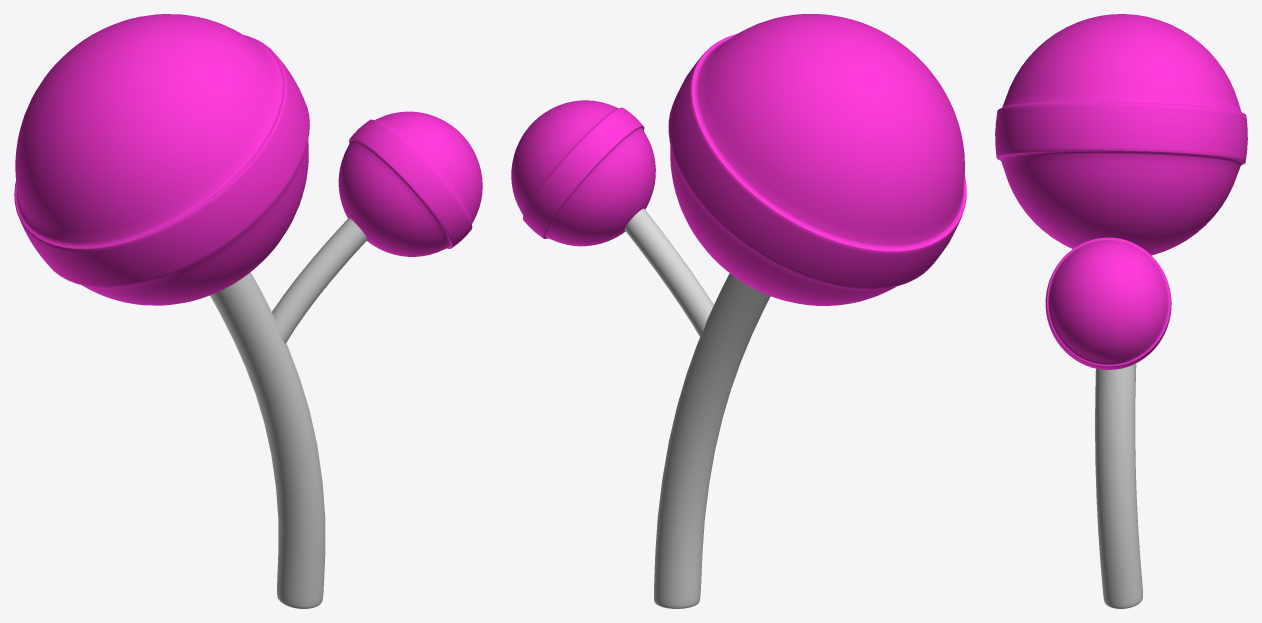
Rendered from Candytree.fbx.
3 renders of one model, left to right at view 1: azimuth 30°, elevation 25°; view 2: azimuth 150°, elevation 25°; view 3: azimuth 270°, elevation 25°, orthographic. The views are drawn at different scales.
Parts seen in each view (by area): view 1: Sphere001_low, Sphere001_low001, Loft004_low, Tree_candy; view 2: Sphere001_low, Sphere001_low001, Loft004_low, Tree_candy; view 3: Sphere001_low, Sphere001_low001, Loft004_low.
Boxes of the visible parts, left/top/right/bottom form: Sphere001_low: left=14, top=14, right=309, bottom=305; Sphere001_low001: left=338, top=111, right=482, bottom=256; Loft004_low: left=210, top=272, right=325, bottom=608; Tree_candy: left=272, top=218, right=367, bottom=343; Sphere001_low: left=668, top=14, right=966, bottom=305; Sphere001_low001: left=511, top=100, right=655, bottom=246; Loft004_low: left=654, top=273, right=770, bottom=608; Tree_candy: left=624, top=208, right=713, bottom=336; Sphere001_low: left=995, top=14, right=1247, bottom=255; Sphere001_low001: left=1045, top=237, right=1171, bottom=369; Loft004_low: left=1095, top=363, right=1142, bottom=608.
Size of the model in its own units: 22.89 by 30.74 by 13.55.
